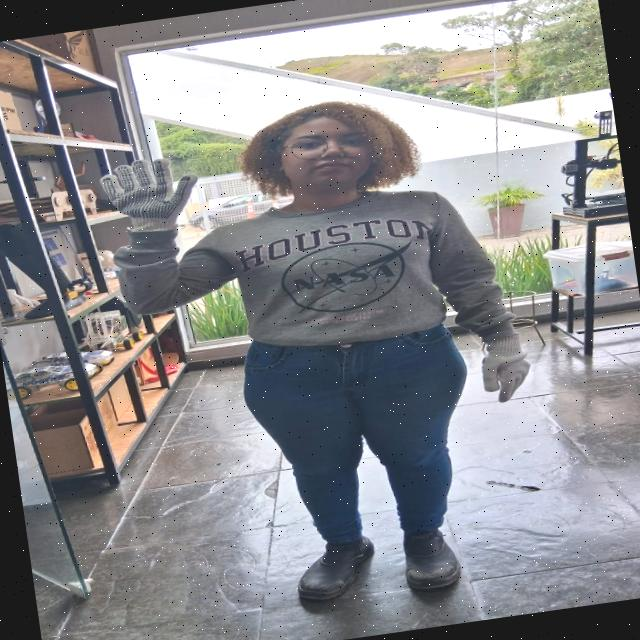BOTA: (283, 525, 373, 602), (395, 516, 463, 598)
LUVA: (96, 159, 199, 239), (479, 327, 541, 403)
